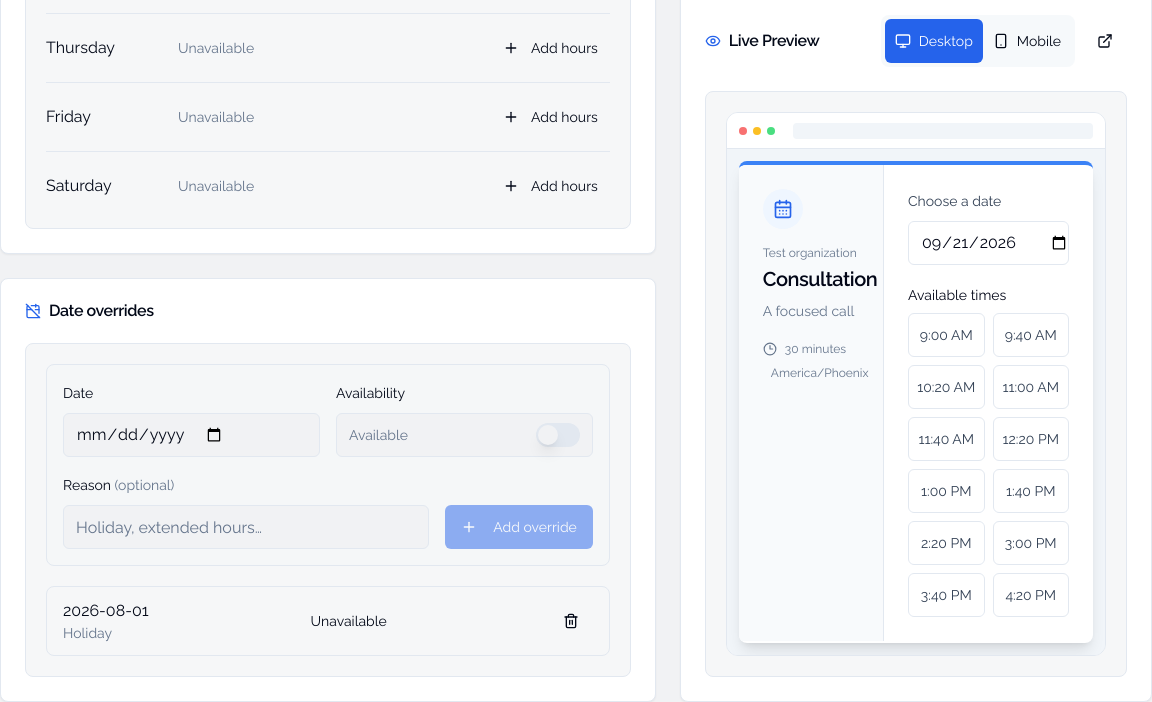
Scenario: CalendarSettingsPage › adds a date override without leaving the calendar detail page
(page scrolled)
In the date field labelled "Date": x=191, y=435 left=63, top=413, right=320, bottom=457, type "2026-09-08"
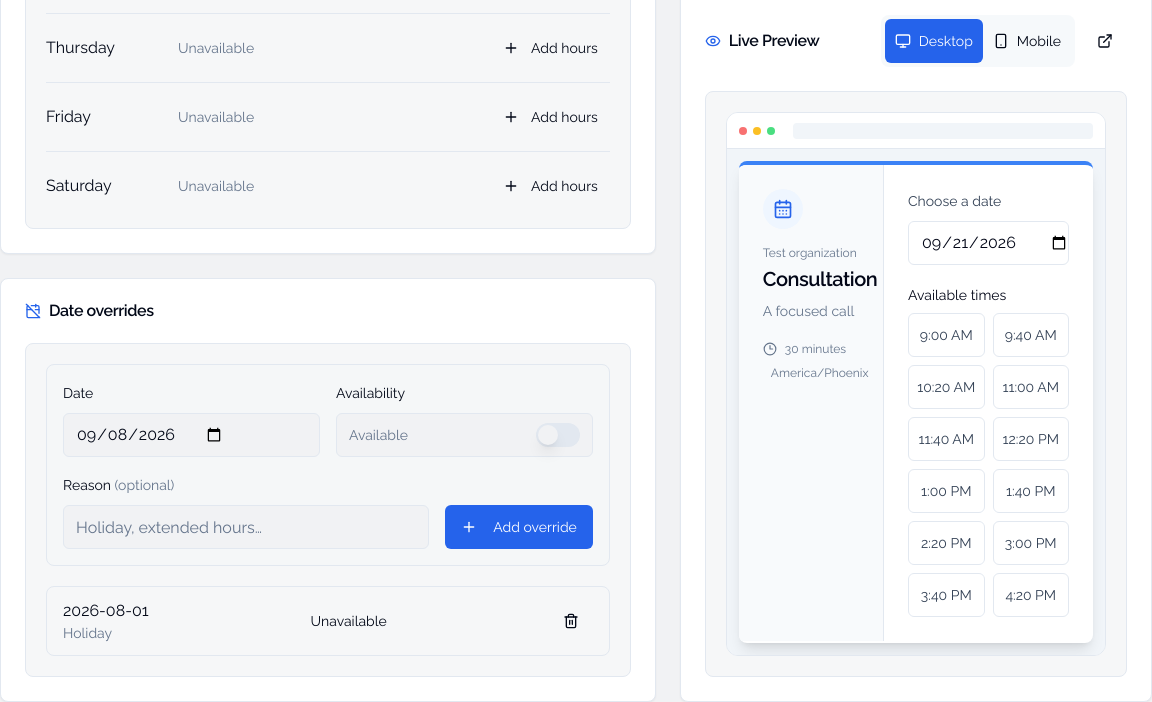
In the field labelled "Reason (optional)": x=246, y=527 left=63, top=505, right=429, bottom=549, type "Team retreat"
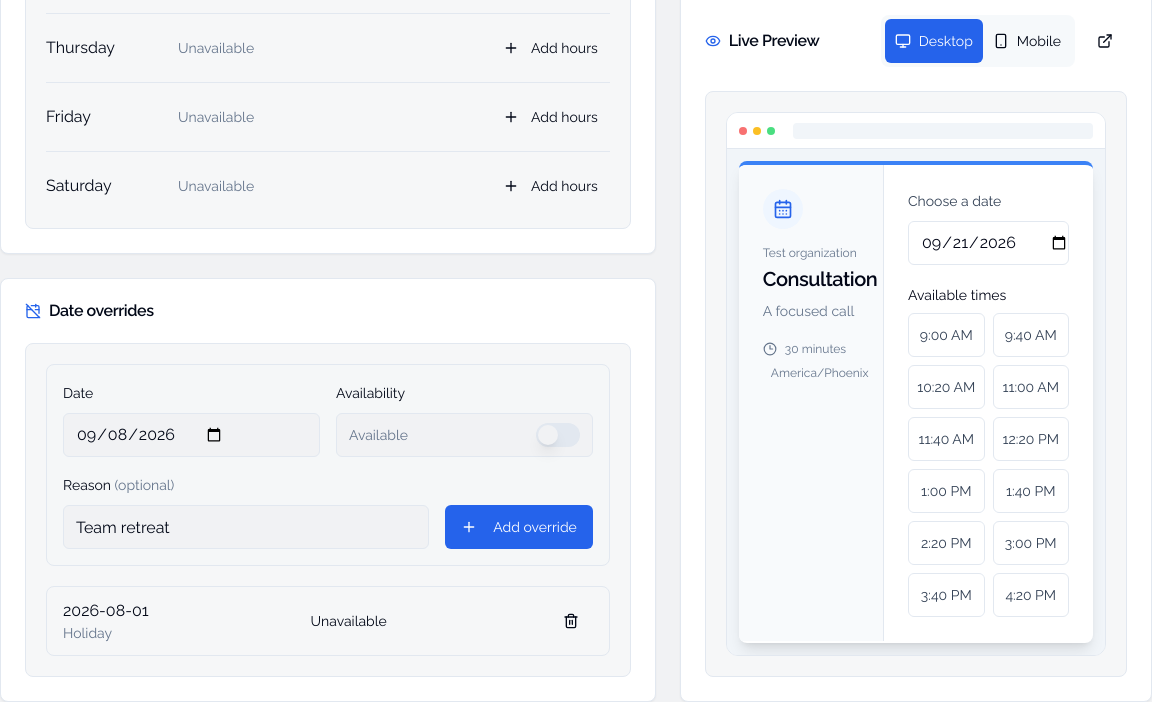
Click the button "Add override": x=519, y=527 left=445, top=505, right=593, bottom=549
(page scrolled)
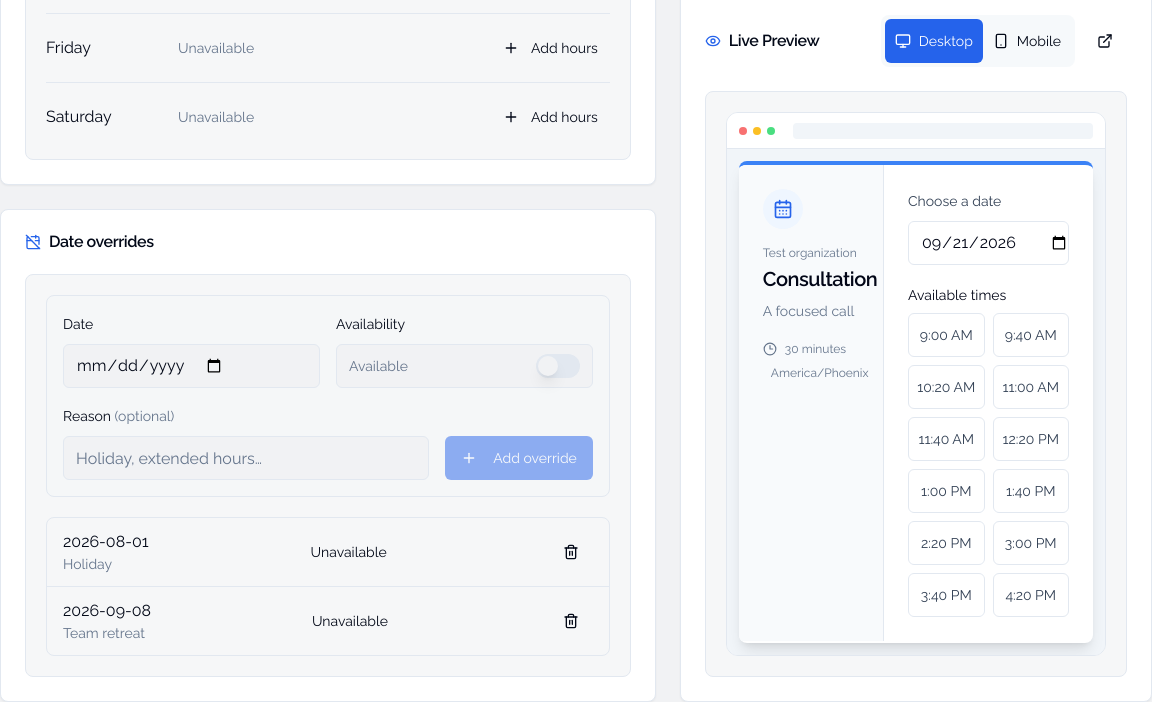
Expected: the text "Team retreat" is shown, left=63, top=623, right=151, bottom=643
